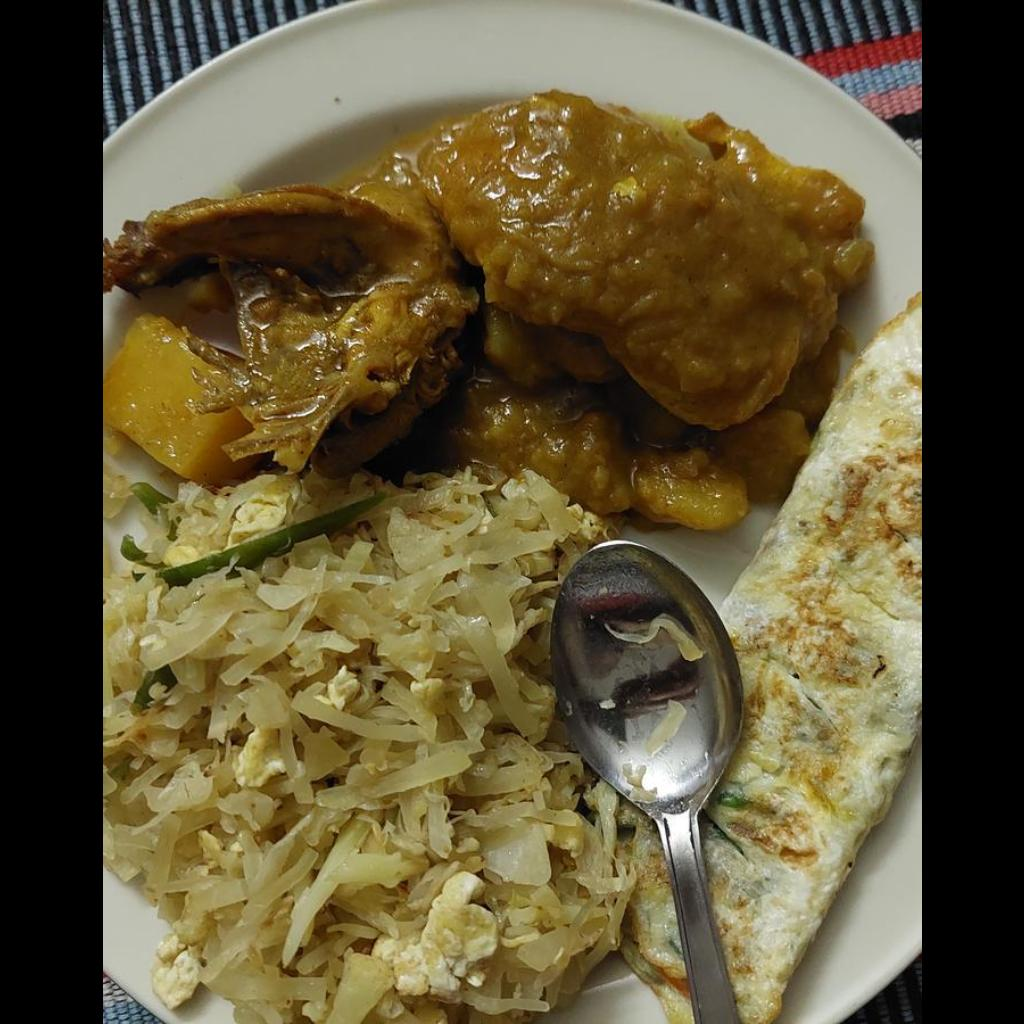chicken: (103, 98, 811, 465)
egg-poached: (701, 297, 920, 1022)
vaji: (106, 481, 637, 1017)
